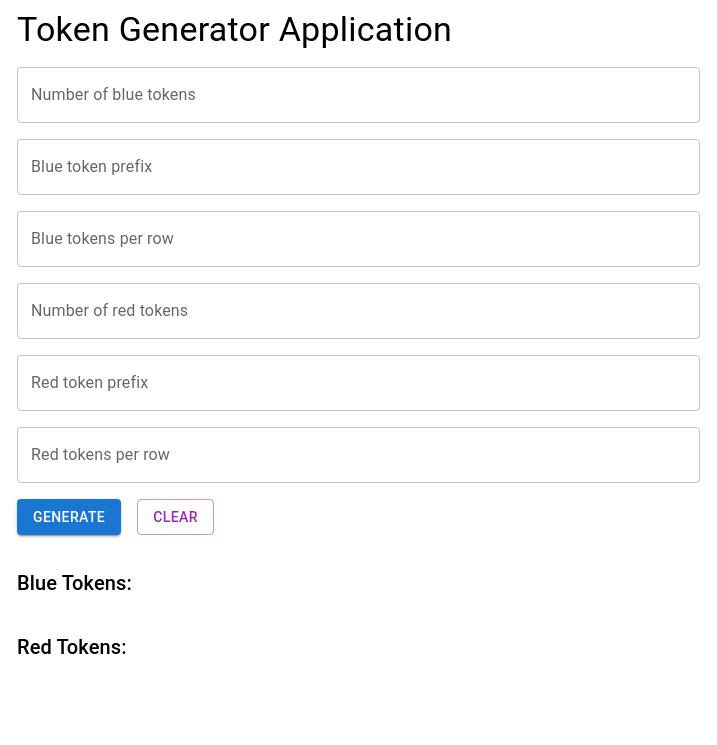
Test case: TokenGenerator Component › displays validation error if values are less than 1
Note: Fill inputs with values less than 1
Type "0" into the number field labelled "Number of blue tokens" at (358, 95), box x1=17 y1=67 x2=700 y2=123
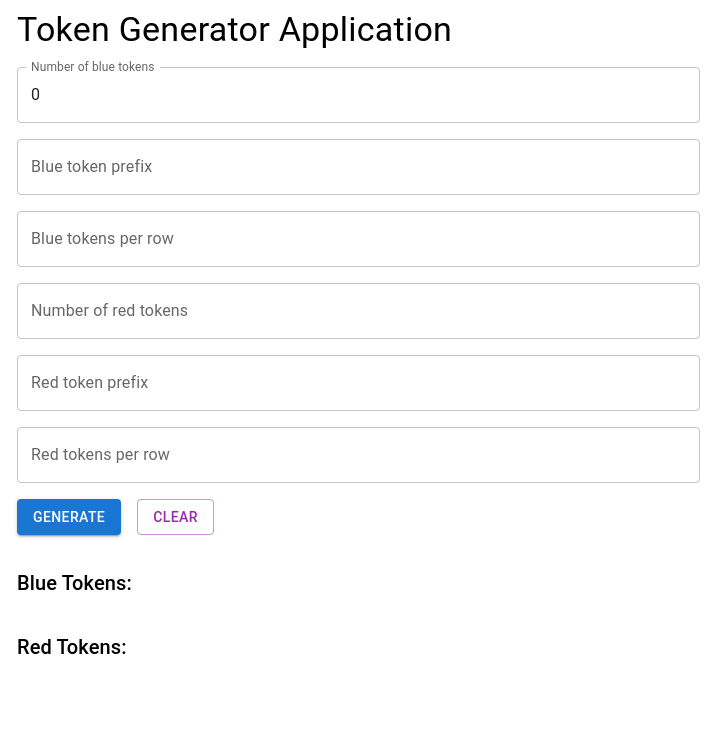
Type "0" into the number field labelled "Blue tokens per row" at (358, 239), box x1=17 y1=211 x2=700 y2=267
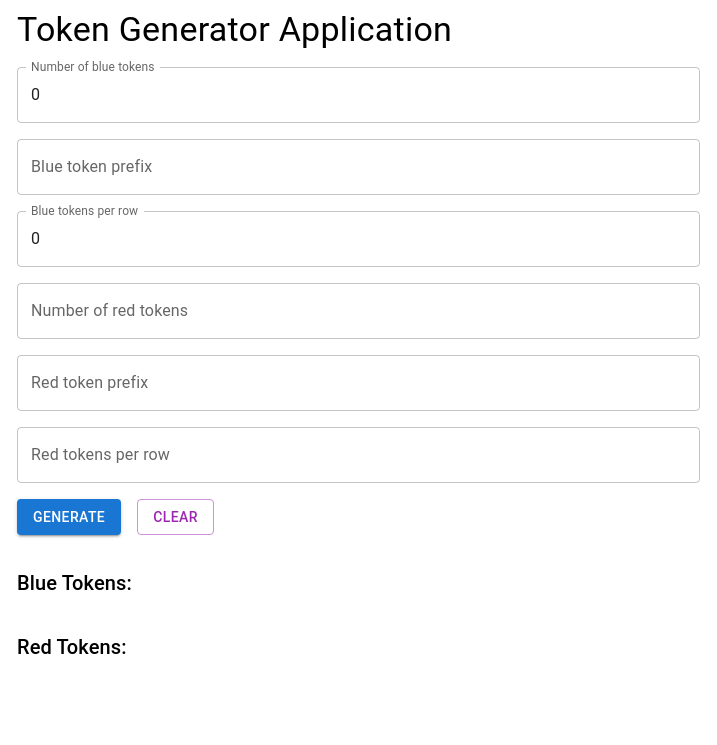
Type "0" into the number field labelled "Number of red tokens" at (358, 311), box x1=17 y1=283 x2=700 y2=339
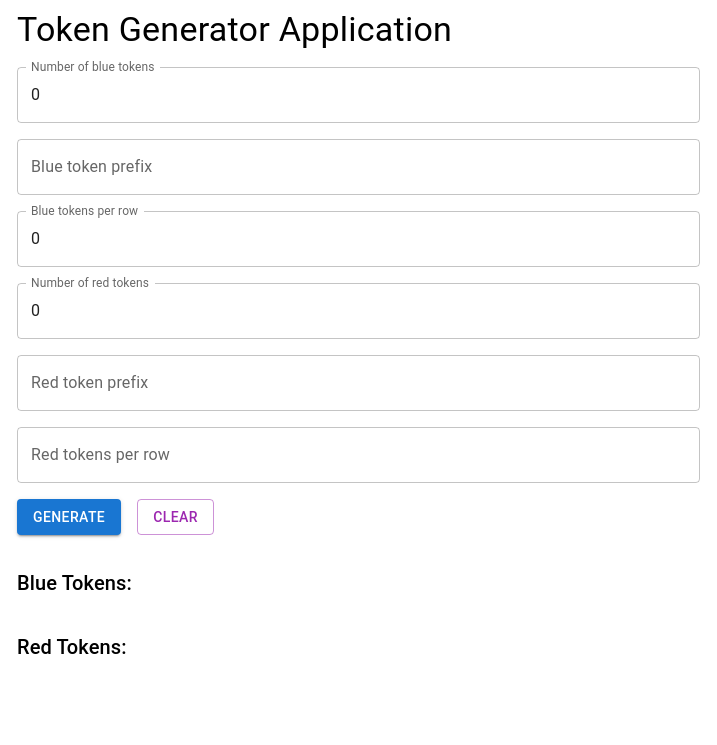
Type "0" into the number field labelled "Red tokens per row" at (358, 455), box x1=17 y1=427 x2=700 y2=483
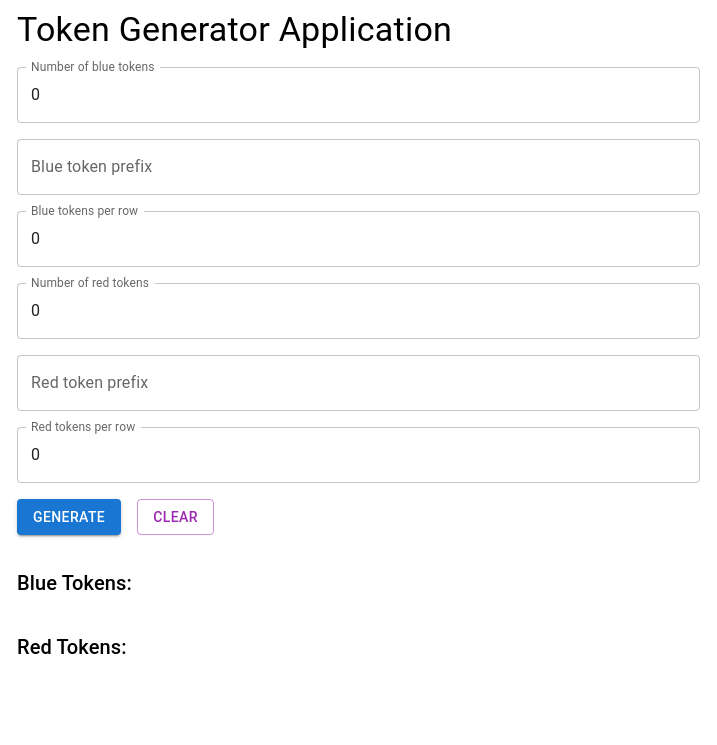
Note: Click the generate button
Click the button "Generate" at (69, 517), box x1=17 y1=499 x2=121 y2=536
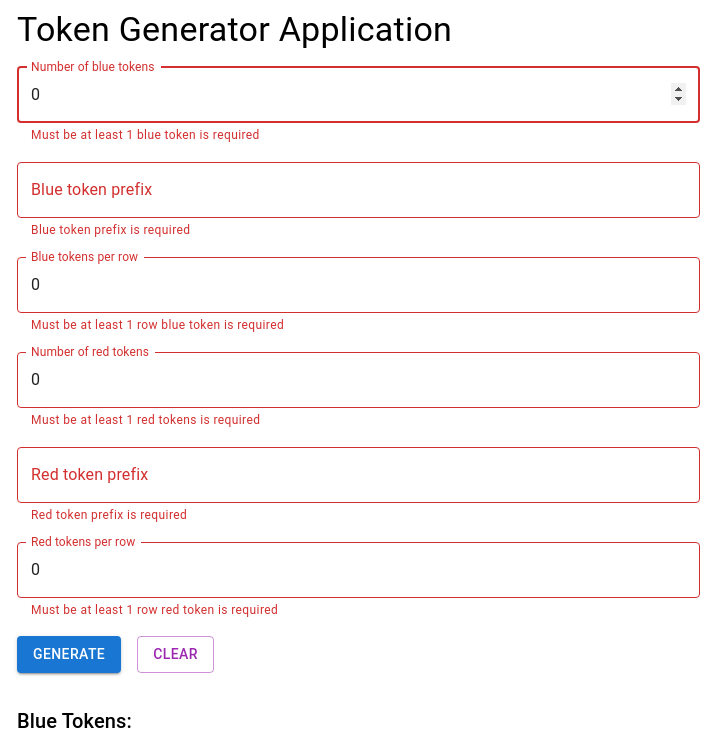
Expected: the text "Must be at least 1 blue token is required" is shown, x1=31 y1=128 x2=260 y2=142
Expected: the text "Must be at least 1 row blue token is required" is shown, x1=31 y1=318 x2=284 y2=332
Expected: the text "Must be at least 1 red tokens is required" is shown, x1=31 y1=413 x2=260 y2=427
